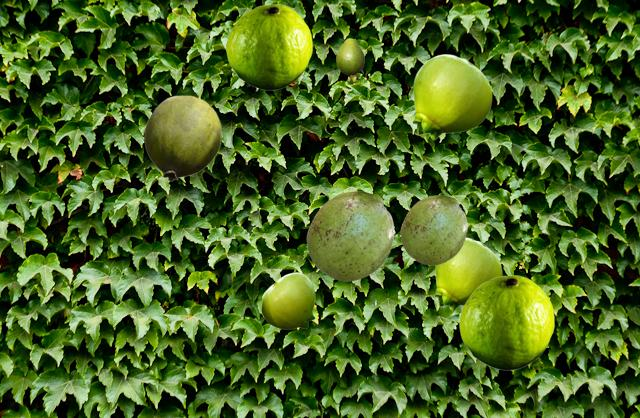guava: (459, 275, 553, 369), (306, 191, 393, 280), (226, 4, 311, 89), (412, 54, 491, 139), (144, 95, 221, 180), (434, 237, 501, 310), (400, 195, 466, 264), (261, 272, 314, 328), (336, 38, 363, 81)
